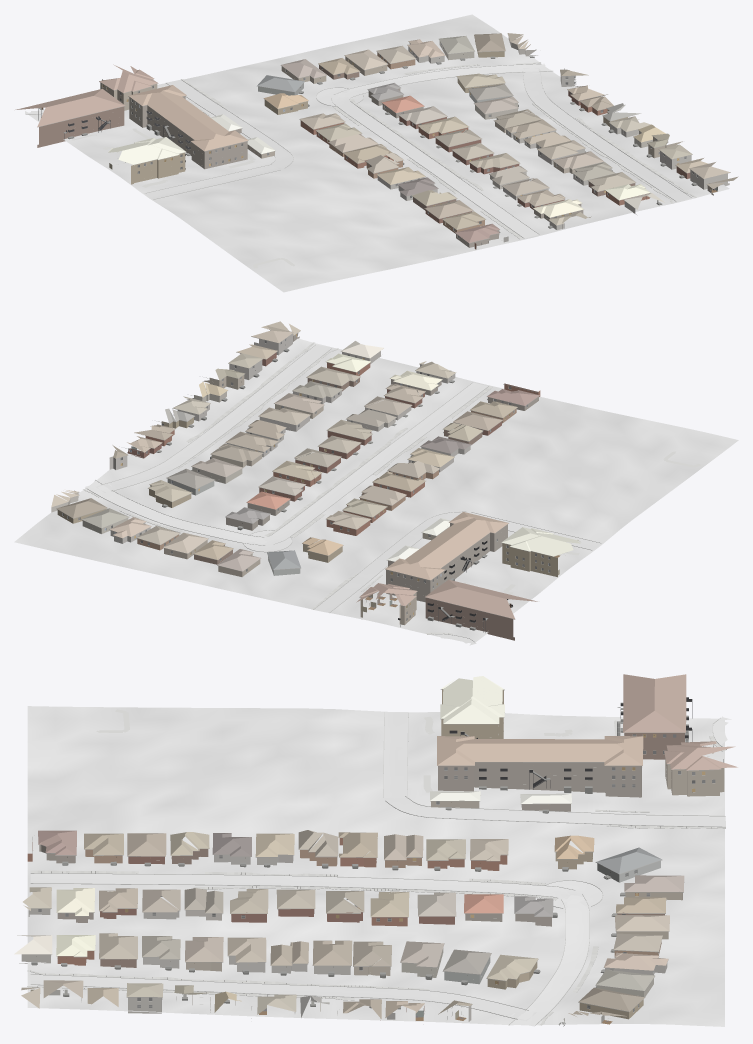
3 renders of one model, top to bottom at view 1: azimuth 30°, elevation 25°; view 2: azimuth 150°, elevation 25°; view 3: azimuth 270°, elevation 25°, orthographic. The views are drawn at different scales.
Visible parts, largest first — view 1: ground, roof, wall, concrete, detail, walk, wall_stone, curb, wall_stucco, glass; view 2: ground, roof, wall, concrete, detail, walk, wall_stone, curb, wall_stucco, glass; view 3: ground, roof, concrete, wall, detail, walk, curb, wall_stone, wall_stucco, glass.
Boxes of the visible parts, bbox=[...] form: ground: bbox=[28, 14, 729, 292]; roof: bbox=[15, 33, 738, 242]; wall: bbox=[37, 40, 713, 249]; concrete: bbox=[25, 64, 690, 238]; detail: bbox=[37, 40, 730, 247]; walk: bbox=[72, 62, 696, 268]; wall_stone: bbox=[377, 43, 729, 230]; curb: bbox=[26, 63, 692, 238]; wall_stucco: bbox=[247, 37, 668, 189]; glass: bbox=[120, 47, 709, 237]; ground: bbox=[14, 338, 738, 643]; roof: bbox=[51, 321, 580, 618]; wall: bbox=[57, 330, 557, 640]; concrete: bbox=[85, 344, 601, 645]; detail: bbox=[51, 329, 571, 632]; walk: bbox=[83, 342, 700, 634]; wall_stone: bbox=[109, 334, 470, 543]; curb: bbox=[86, 344, 601, 642]; wall_stucco: bbox=[51, 392, 449, 575]; glass: bbox=[62, 338, 550, 620]; ground: bbox=[27, 706, 724, 1026]; roof: bbox=[14, 674, 737, 1018]; concrete: bbox=[30, 712, 731, 1026]; wall: bbox=[27, 689, 724, 1020]; detail: bbox=[24, 689, 723, 1026]; walk: bbox=[27, 709, 726, 1025]; curb: bbox=[30, 712, 726, 1025]; wall_stone: bbox=[19, 854, 667, 1021]; wall_stucco: bbox=[185, 800, 660, 1018]; glass: bbox=[38, 734, 715, 1011].
Size of the model in its own units: 272 by 21.38 by 260.
